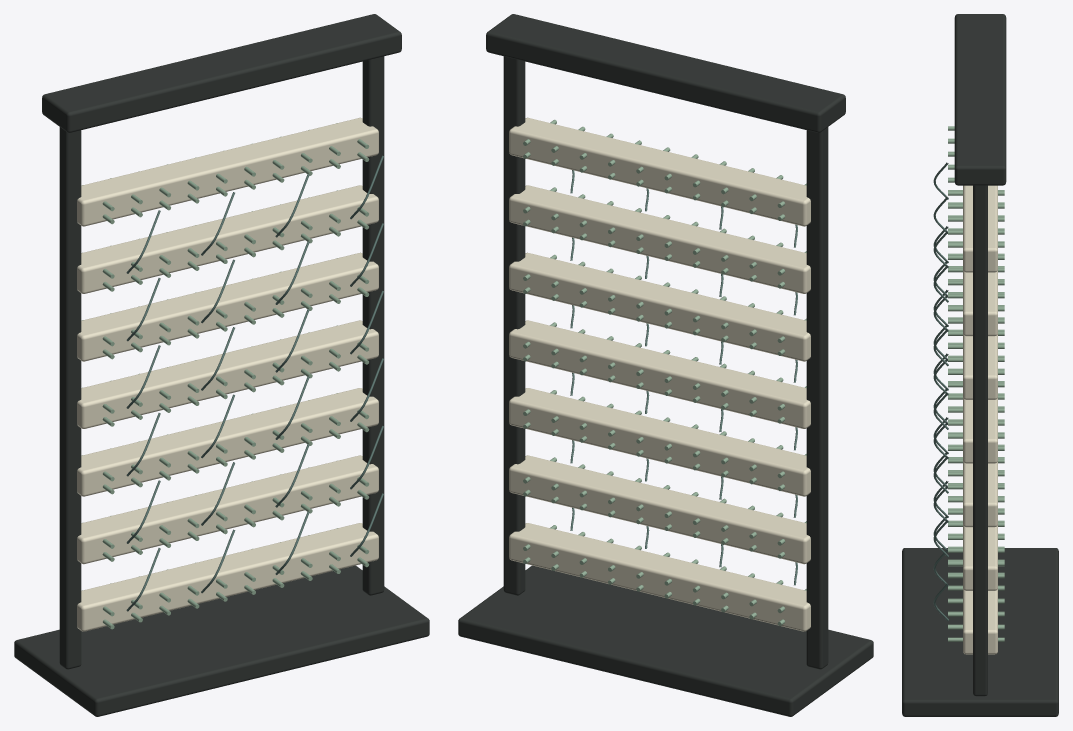
File: abandoned-telephone-exchange-main-distribution-frame-4fb8ced9__32000.glb
The picture shows the model from 3 angles, left to right: view 1: azimuth 30°, elevation 25°; view 2: azimuth 150°, elevation 25°; view 3: azimuth 270°, elevation 25°; orthographic projection. The views are drawn at different scales.
Parts seen in each view (by area): view 1: main-distribution-frame; view 2: main-distribution-frame; view 3: main-distribution-frame.
Boxes of the visible parts, bbox=[...] form: main-distribution-frame: bbox=[14, 14, 429, 716]; main-distribution-frame: bbox=[458, 14, 873, 716]; main-distribution-frame: bbox=[902, 14, 1058, 716].
Bounding box in the file's own units: 1.35 × 2.25 × 0.5799.
